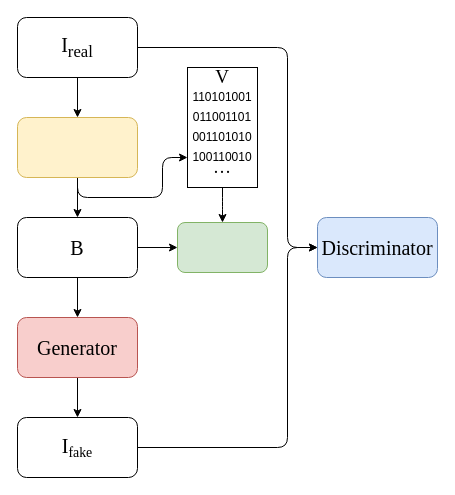
Image size: 455x495. Some labels were removed from this diagram. The box of each missing label's shape, as (x1, y1, x2, y2) in pixels:
Asymmetric pairwise loss: (176, 222, 268, 272)
Encoder: (16, 116, 138, 178)
